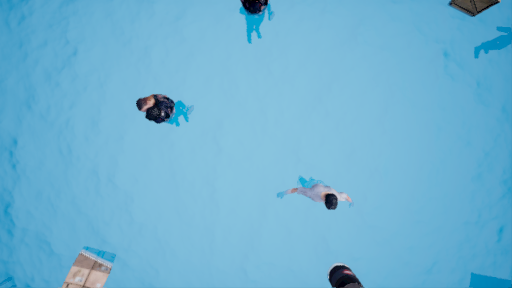person: (132, 91, 201, 132), (275, 173, 352, 209)
